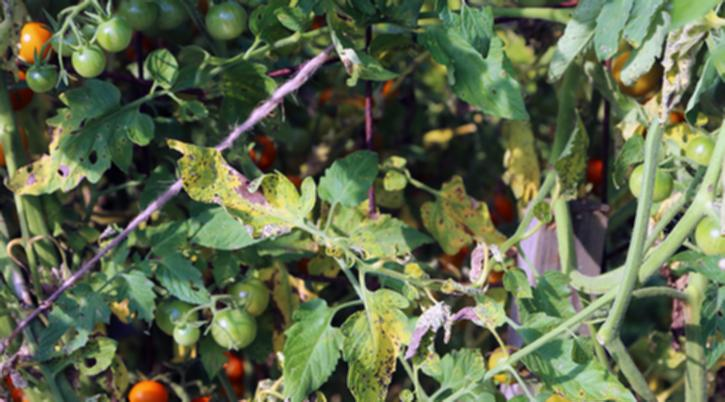Tomato Early blight leaf: (163, 138, 320, 242), (14, 84, 153, 195), (426, 23, 525, 122), (340, 290, 409, 402), (509, 346, 631, 402), (422, 182, 500, 251), (343, 214, 431, 257)
Tomato leaf: (277, 301, 346, 402)
